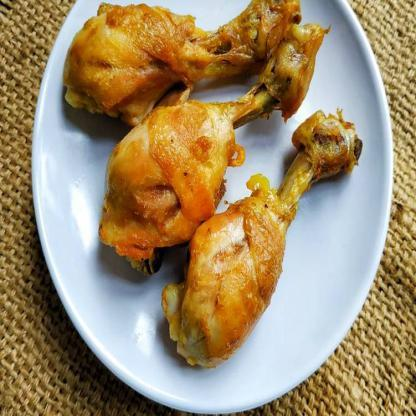ayam_goreng: (95, 19, 323, 274), (170, 108, 361, 364), (64, 0, 301, 132)
